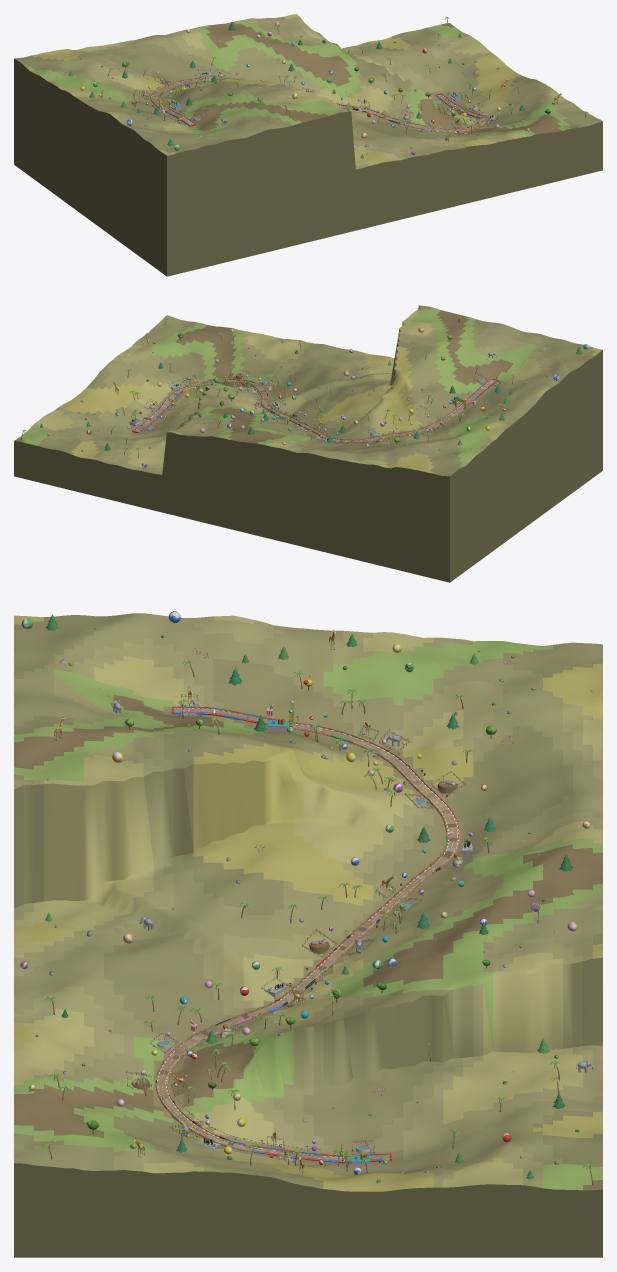
3 views of the same model, one above another, from view 1: azimuth 30°, elevation 25°; view 2: azimuth 150°, elevation 25°; view 3: azimuth 270°, elevation 25° (orthographic). The views are drawn at different scales.
Visible parts, largest first — view 1: grass, theme, buildings, hay, road, pines; view 2: grass, theme, buildings, hay, road, pines; view 3: grass, theme, buildings, road, hay, pines, markings.
Part boxes in pixels (x1=…): grass: x1=14, y1=14, x2=602, y2=276; theme: x1=80, y1=17, x2=588, y2=155; buildings: x1=107, y1=19, x2=585, y2=141; hay: x1=150, y1=77, x2=486, y2=132; road: x1=151, y1=79, x2=485, y2=131; pines: x1=68, y1=22, x2=524, y2=158; grass: x1=14, y1=305, x2=602, y2=582; theme: x1=21, y1=316, x2=588, y2=469; buildings: x1=21, y1=321, x2=513, y2=458; hay: x1=132, y1=378, x2=496, y2=443; road: x1=134, y1=379, x2=495, y2=442; pines: x1=40, y1=346, x2=582, y2=450; grass: x1=14, y1=613, x2=602, y2=1257; theme: x1=20, y1=611, x2=595, y2=1173; buildings: x1=48, y1=663, x2=593, y2=1185; road: x1=157, y1=708, x2=458, y2=1161; hay: x1=155, y1=706, x2=460, y2=1163; pines: x1=45, y1=614, x2=573, y2=1179; markings: x1=157, y1=708, x2=458, y2=1160.
Bounding box in the file's own units: 485 × 140 × 295.
